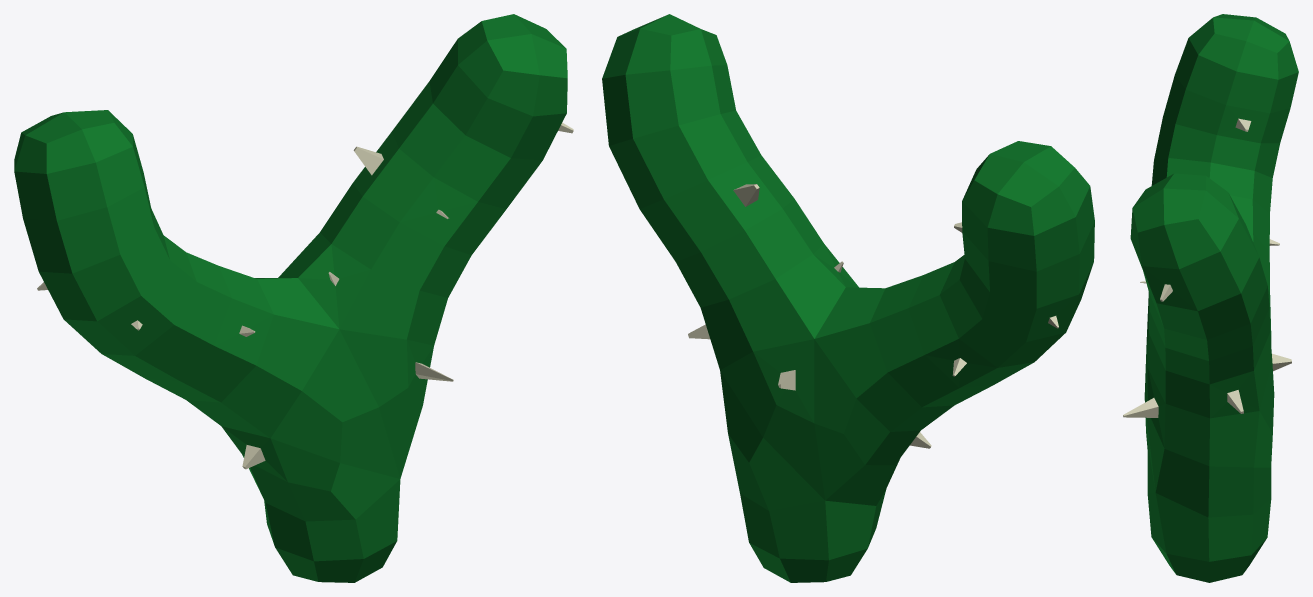
The model's file is Cactus.glb.
The picture shows the model from 3 angles, left to right: view 1: azimuth 30°, elevation 25°; view 2: azimuth 150°, elevation 25°; view 3: azimuth 270°, elevation 25°; orthographic projection. The views are drawn at different scales.
Parts seen in each view (by area): view 1: Cylinder; view 2: Cylinder; view 3: Cylinder.
Boxes of the visible parts, x1=… form: Cylinder: x1=14, y1=14, x2=573, y2=582; Cylinder: x1=602, y1=14, x2=1094, y2=582; Cylinder: x1=1123, y1=14, x2=1298, y2=582.
Size of the model in its own units: 2 by 1.94 by 0.6675.
